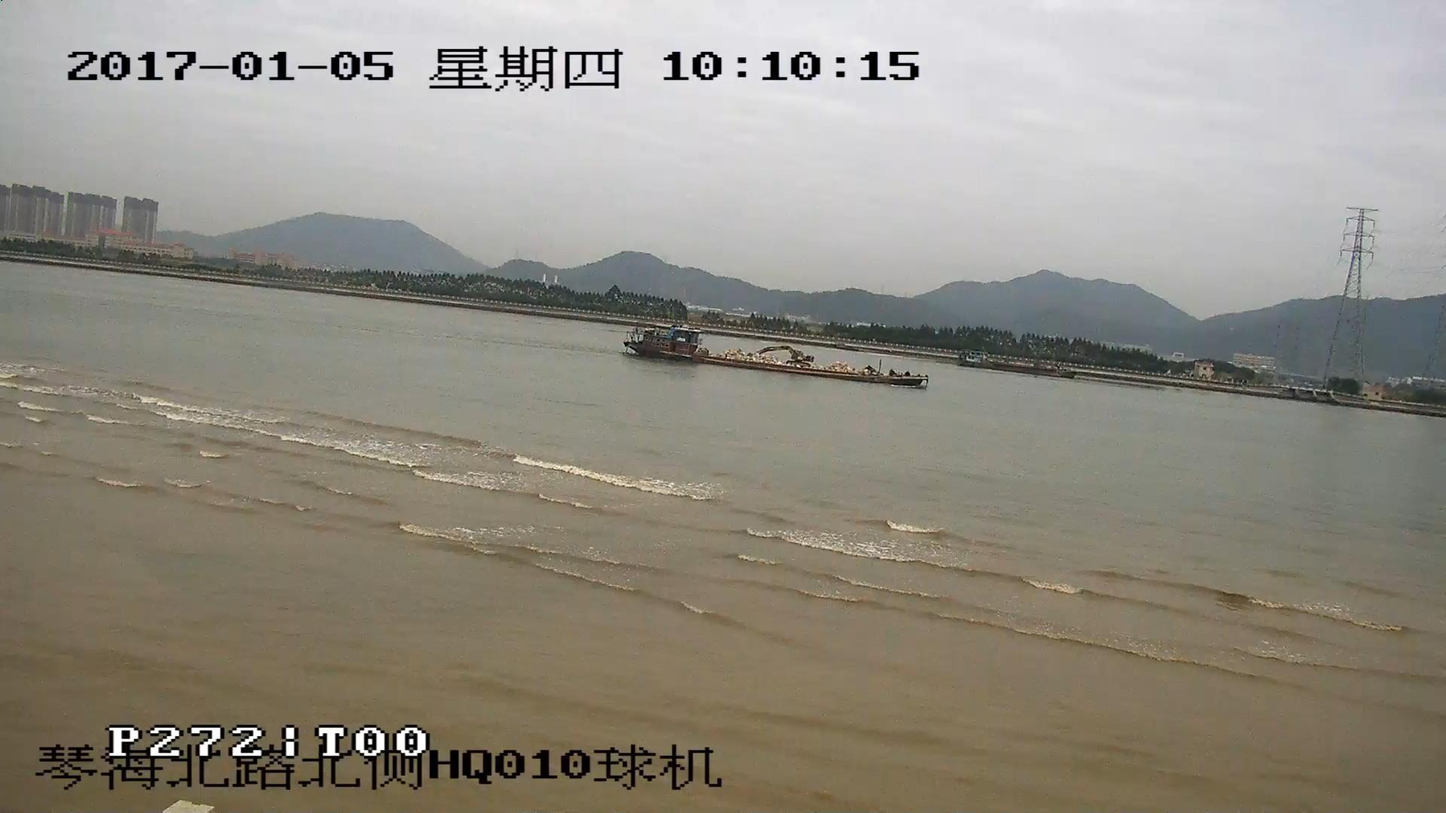bulk cargo carrier: (621, 316, 926, 390)
